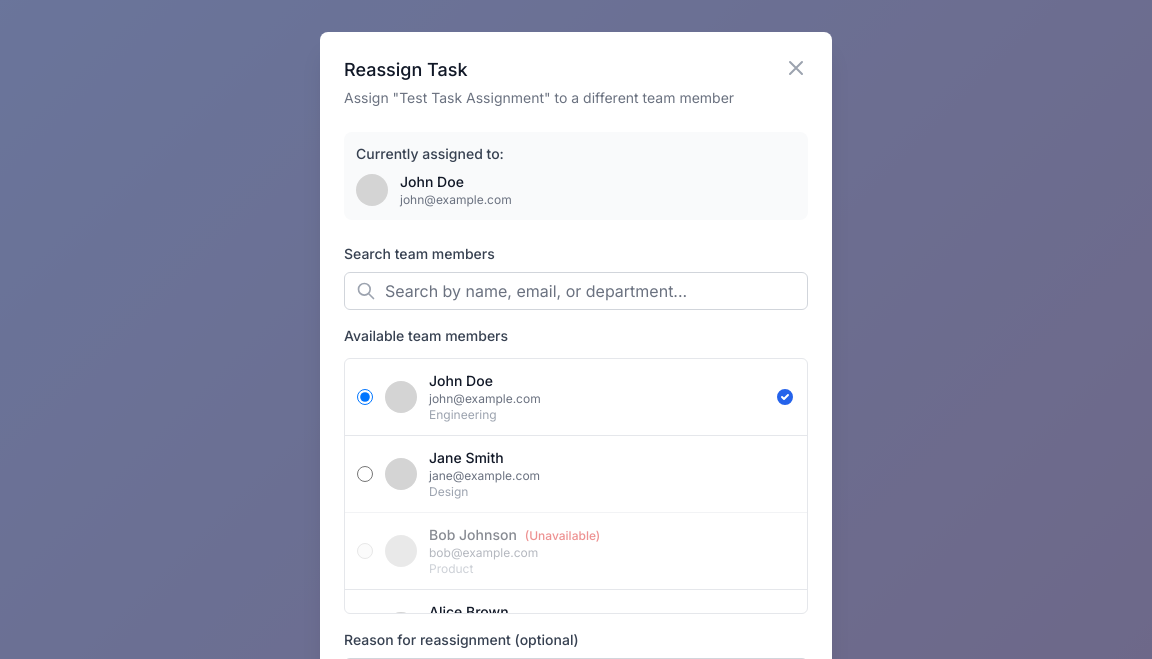
TaskAssignment › shows no results message when search yields no matches
This screenshot has width=1152, height=659.
Type "NonexistentUser" into the field with placeholder "Search by name, email, or department..." at (576, 291), box [344, 272, 808, 310]
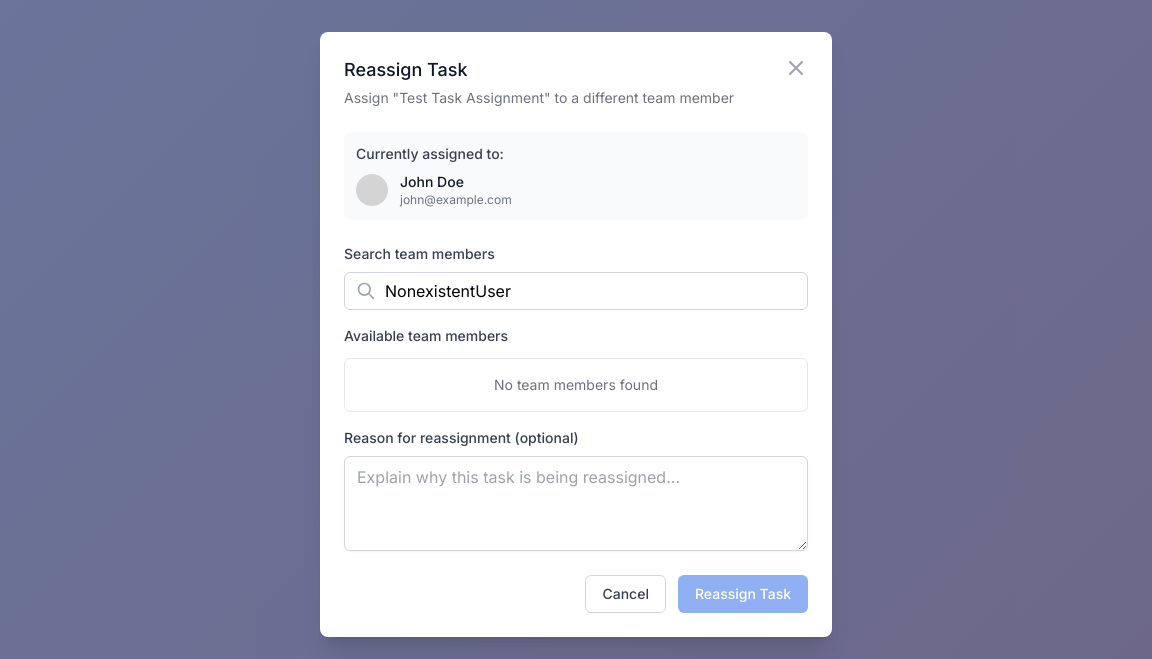
expect the text "No team members found" is shown: met, box [494, 376, 658, 393]
